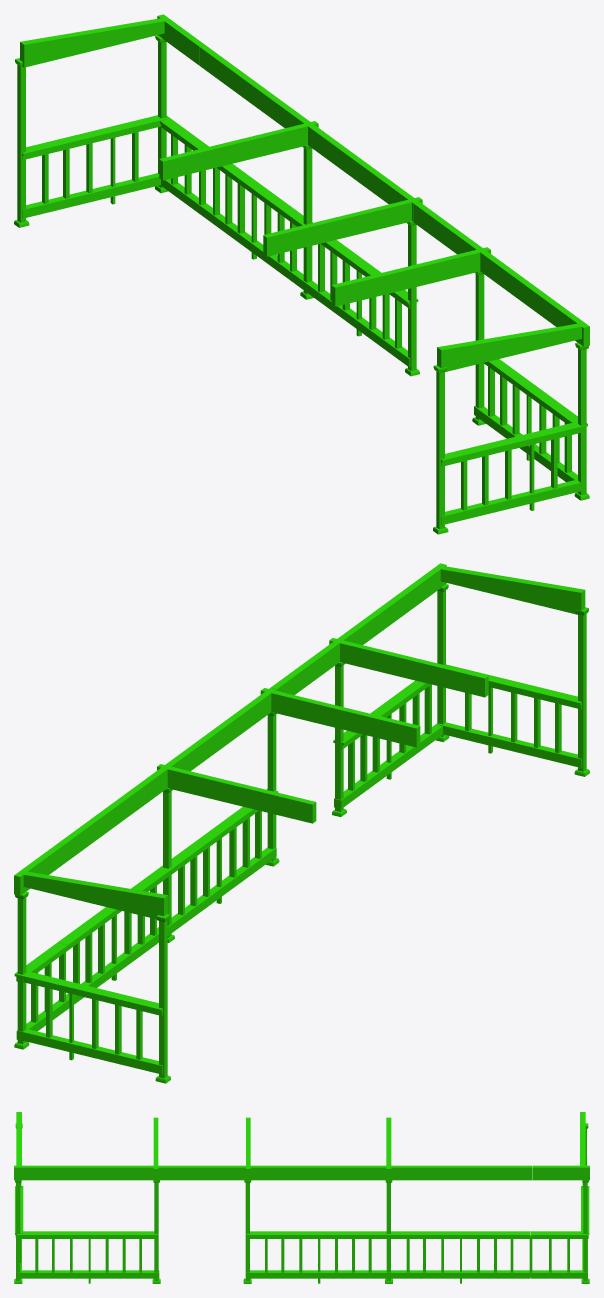
The model's file is H03_Front_01B.fbx.
The picture shows the model from 3 angles, top to bottom: view 1: azimuth 30°, elevation 25°; view 2: azimuth 150°, elevation 25°; view 3: azimuth 270°, elevation 25°; orthographic projection. The views are drawn at different scales.
Visible parts, largest first — view 1: H03_Front_01B; view 2: H03_Front_01B; view 3: H03_Front_01B.
Boxes of the visible parts, x1,y1,x2,y2 form: H03_Front_01B: (14, 14, 589, 534); H03_Front_01B: (14, 563, 589, 1083); H03_Front_01B: (14, 1112, 589, 1283).
Size of the model in its own units: 257 by 290 by 1219.
